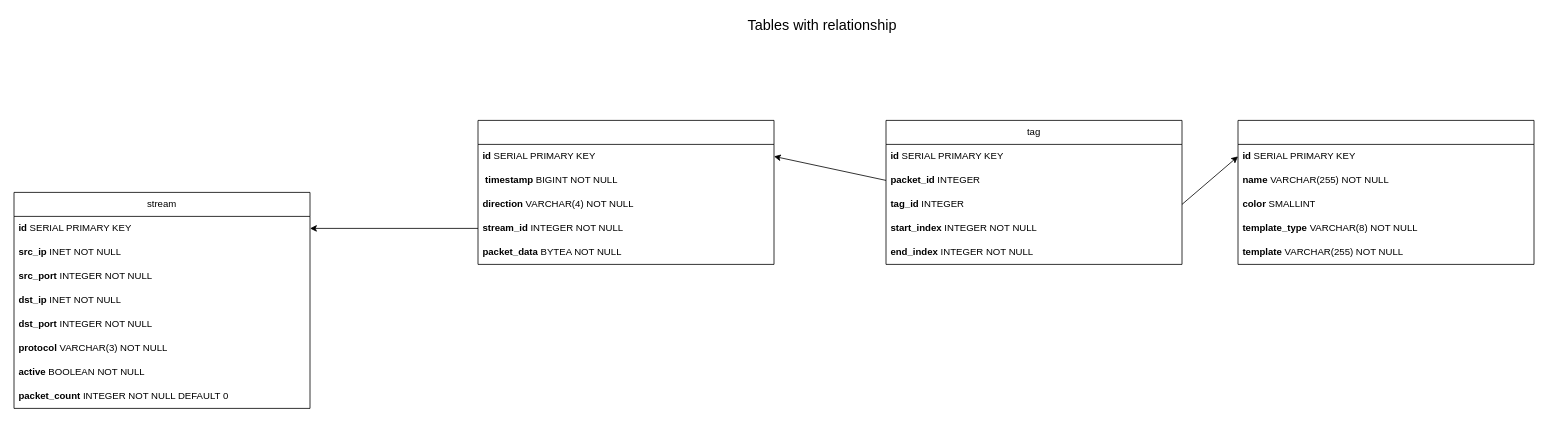
Some shapes in this 1565 by 422 pixel diagram are drawn without their labels. Each missing label, with the box of its shape:
packets: (477, 120, 774, 264)
tag_name: (1237, 120, 1534, 264)
